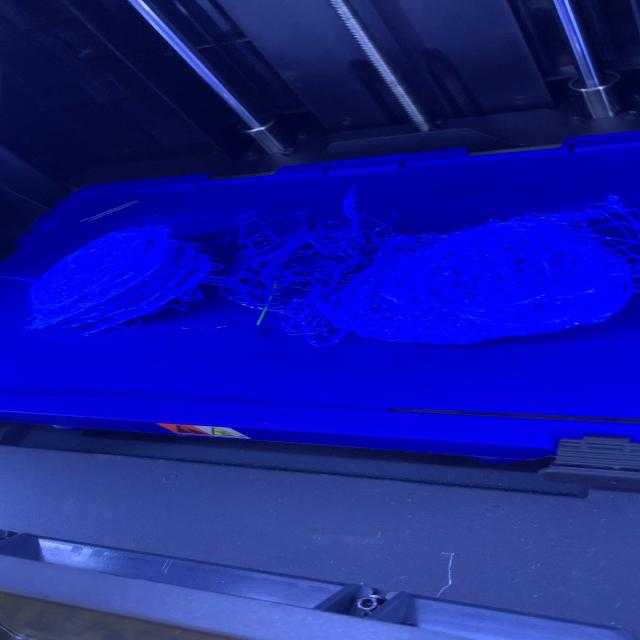spaghetti: (17, 185, 638, 348), (323, 197, 638, 346), (21, 224, 222, 336)
